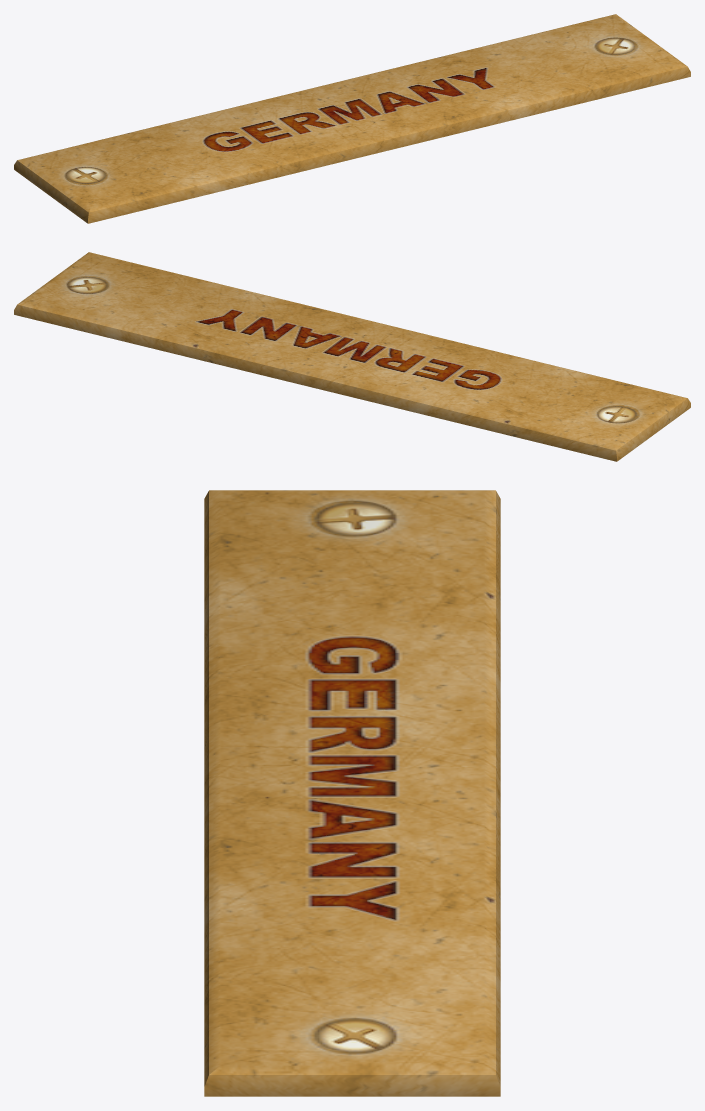
The model's file is mdl_hub_plaque_germany.gltf.
3 views of the same model, one above another, from view 1: azimuth 30°, elevation 25°; view 2: azimuth 150°, elevation 25°; view 3: azimuth 270°, elevation 25° (orthographic). The views are drawn at different scales.
Visible parts, largest first — view 1: mdl_hub_plaque_germany; view 2: mdl_hub_plaque_germany; view 3: mdl_hub_plaque_germany.
Boxes of the visible parts, x1,y1,x2,y2 form: mdl_hub_plaque_germany: [14, 14, 690, 223]; mdl_hub_plaque_germany: [14, 252, 690, 461]; mdl_hub_plaque_germany: [204, 490, 500, 1096].
Size of the model in its own units: 0.3 by 0.00568 by 0.0638.
1 material, 1 textured.
